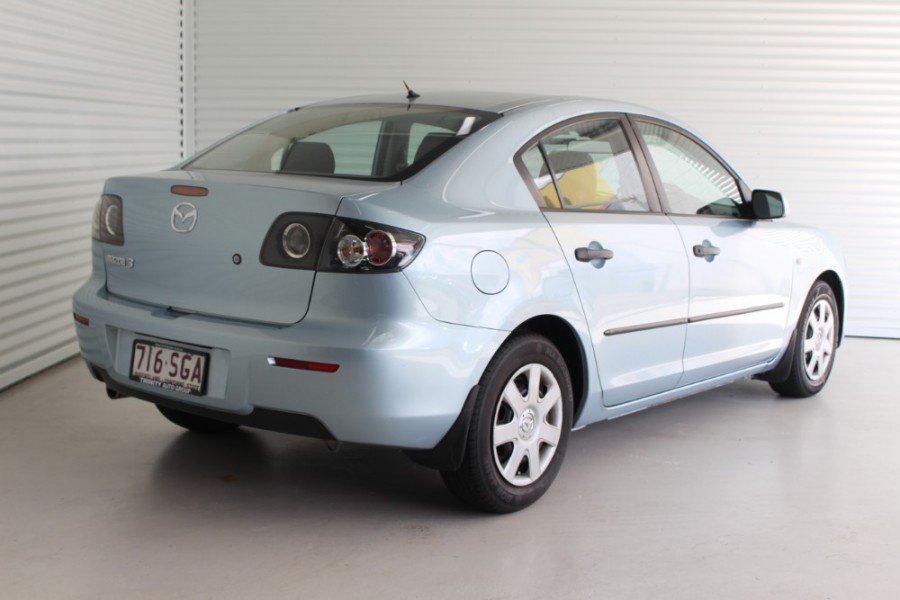car: (69, 87, 848, 509)
